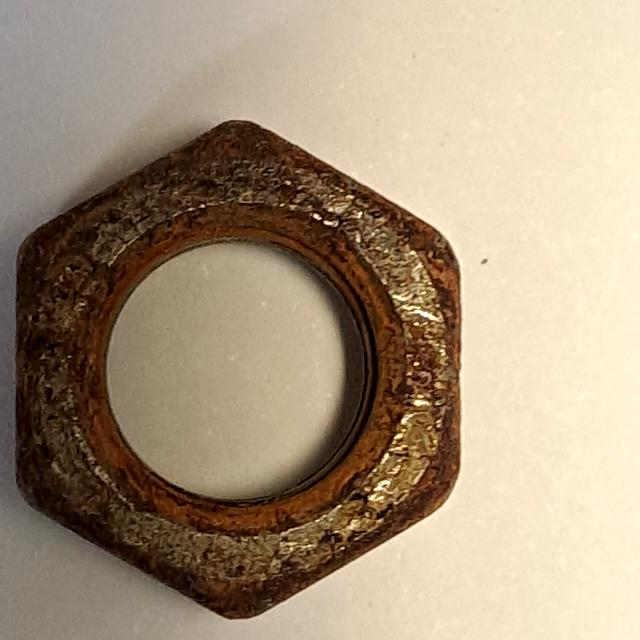Rust: (1, 85, 489, 633)
